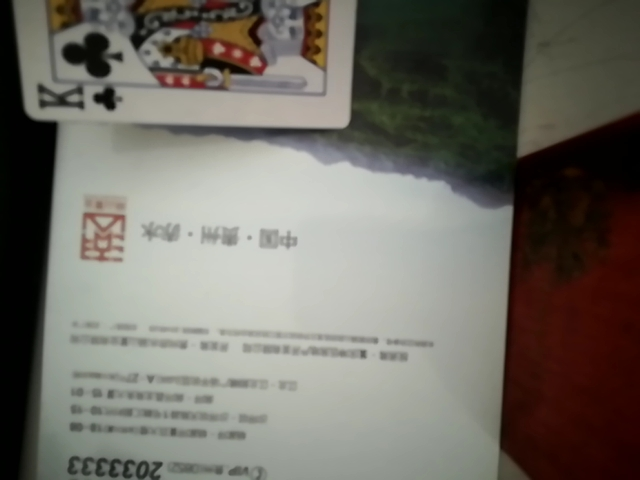mh k: (3, 0, 372, 134)
